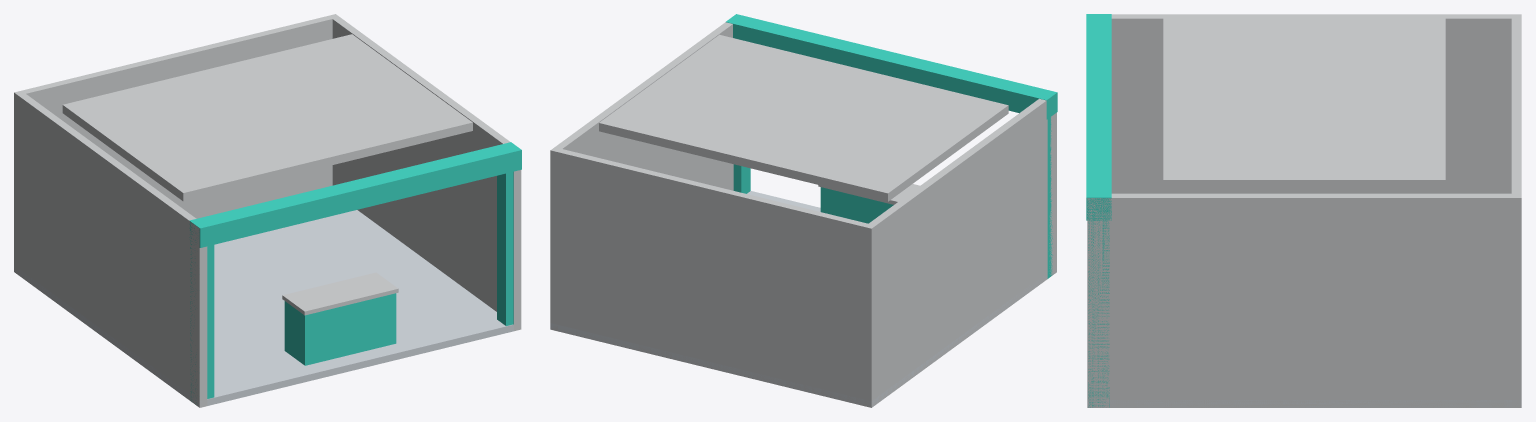
The picture shows the model from 3 angles, left to right: view 1: azimuth 30°, elevation 25°; view 2: azimuth 150°, elevation 25°; view 3: azimuth 270°, elevation 25°; orthographic projection. The views are drawn at different scales.
Parts seen in each view (by area): view 1: Exhibition Booth Concept; view 2: Exhibition Booth Concept; view 3: Exhibition Booth Concept.
Part boxes in pixels (bbox=[...]): Exhibition Booth Concept: bbox=[14, 14, 521, 407]; Exhibition Booth Concept: bbox=[550, 14, 1057, 407]; Exhibition Booth Concept: bbox=[1086, 14, 1521, 407].
Size of the model in its own units: 6 by 3.34 by 6.02.
